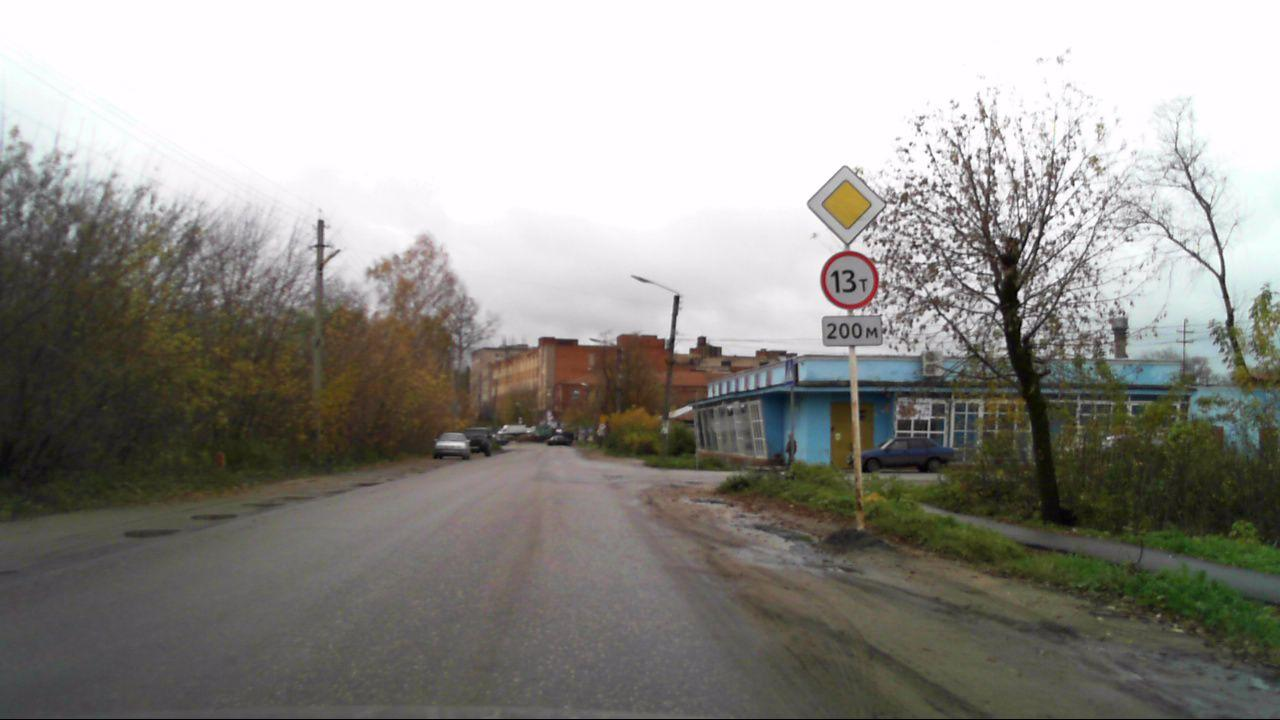2_1: (806, 162, 888, 247)
3_11: (818, 250, 880, 310)
5_19_2: (784, 360, 797, 383)
8_1_1: (821, 316, 883, 345)
